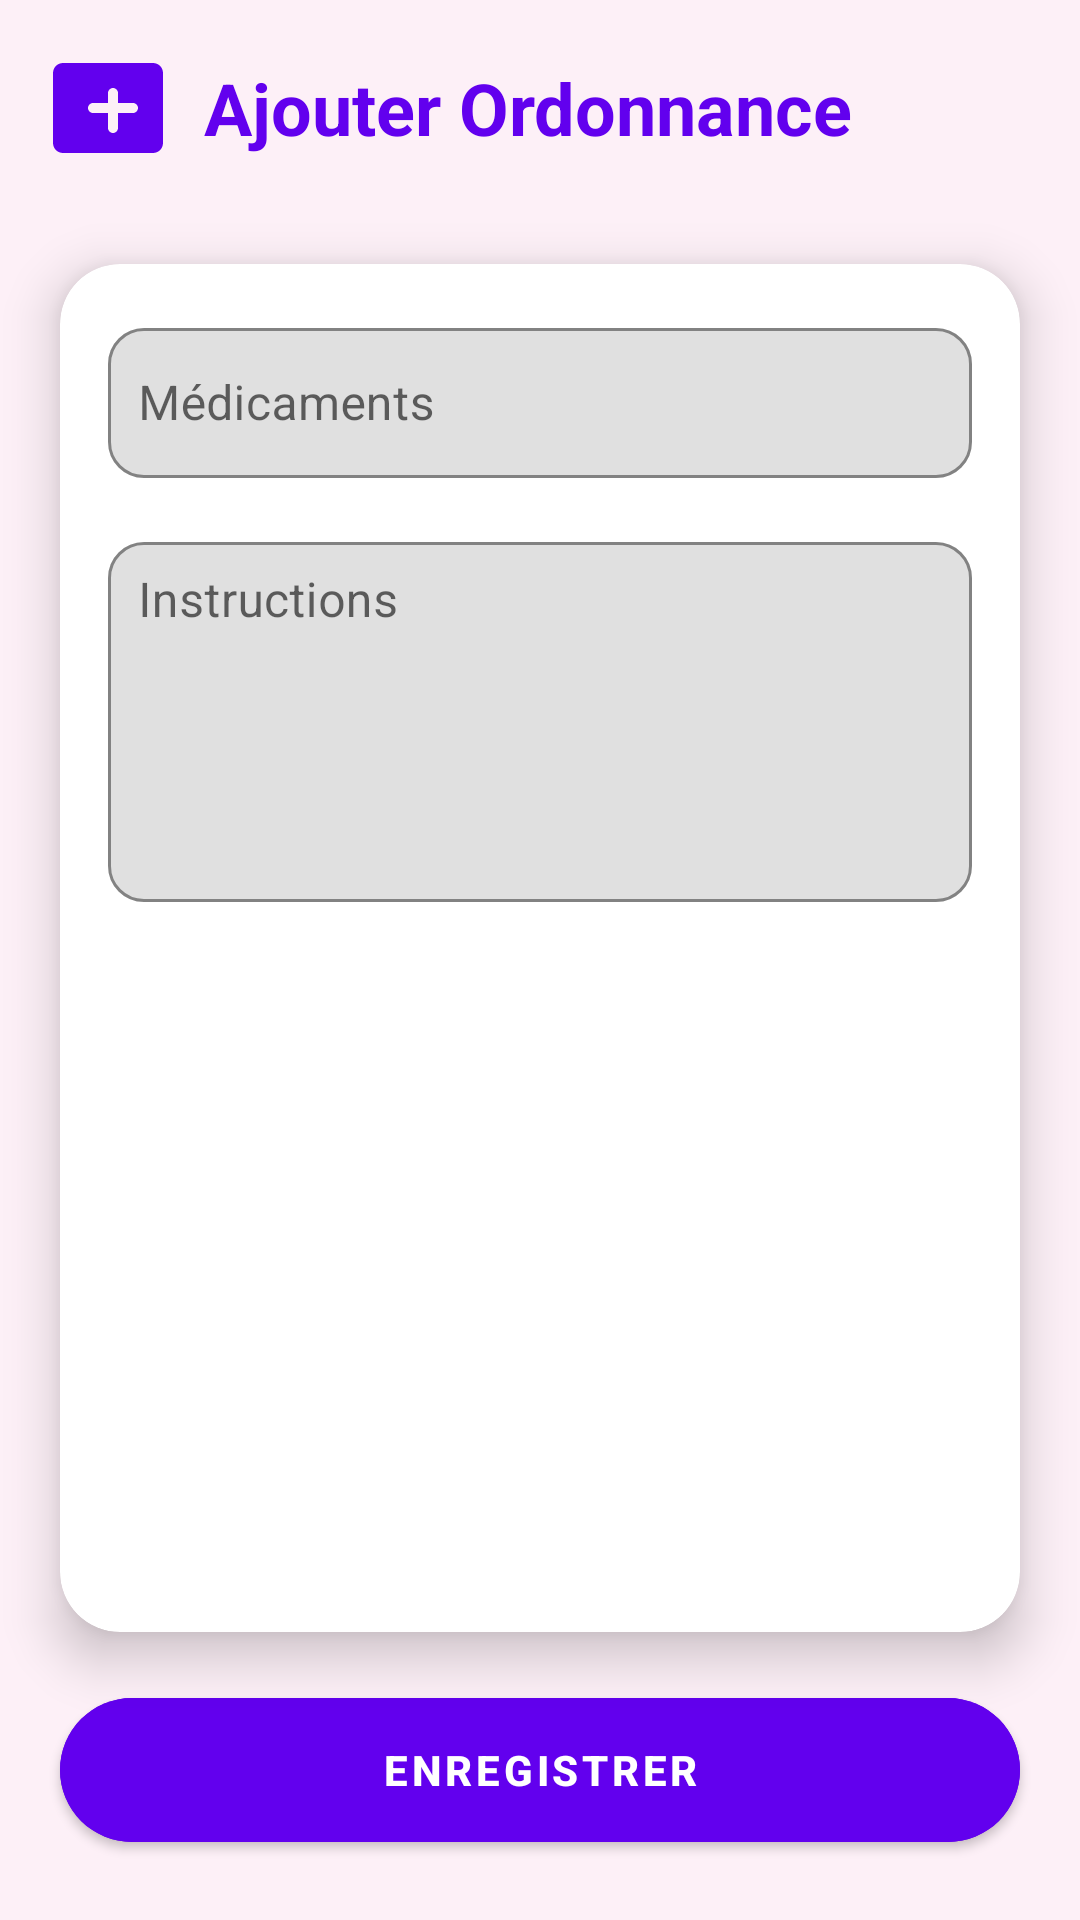

Icon click points for this 1080*1920 phone screenshot, format (x,y):
Icône médicale: (108,108)
